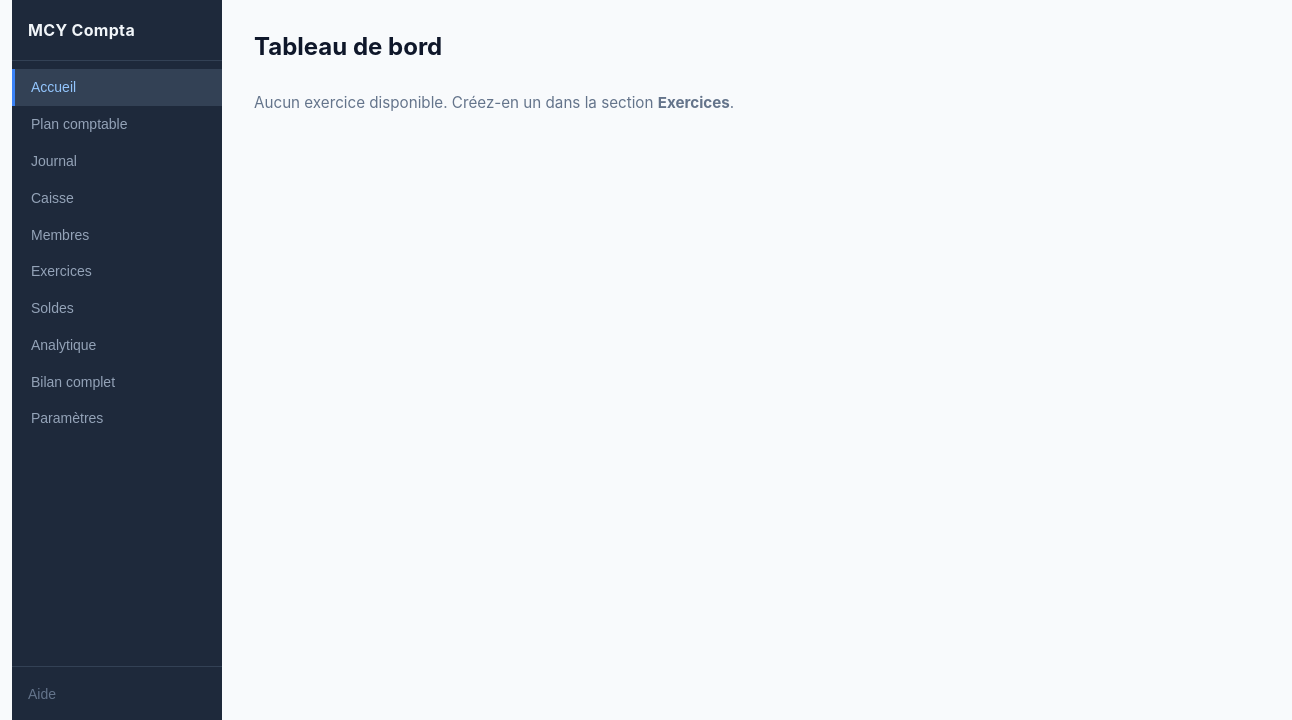
App — navigation › navigue vers Plan comptable au clic
The width and height of the screenshot is (1292, 720).
Click the button "Plan comptable" at (117, 124), box [12,106,222,143]
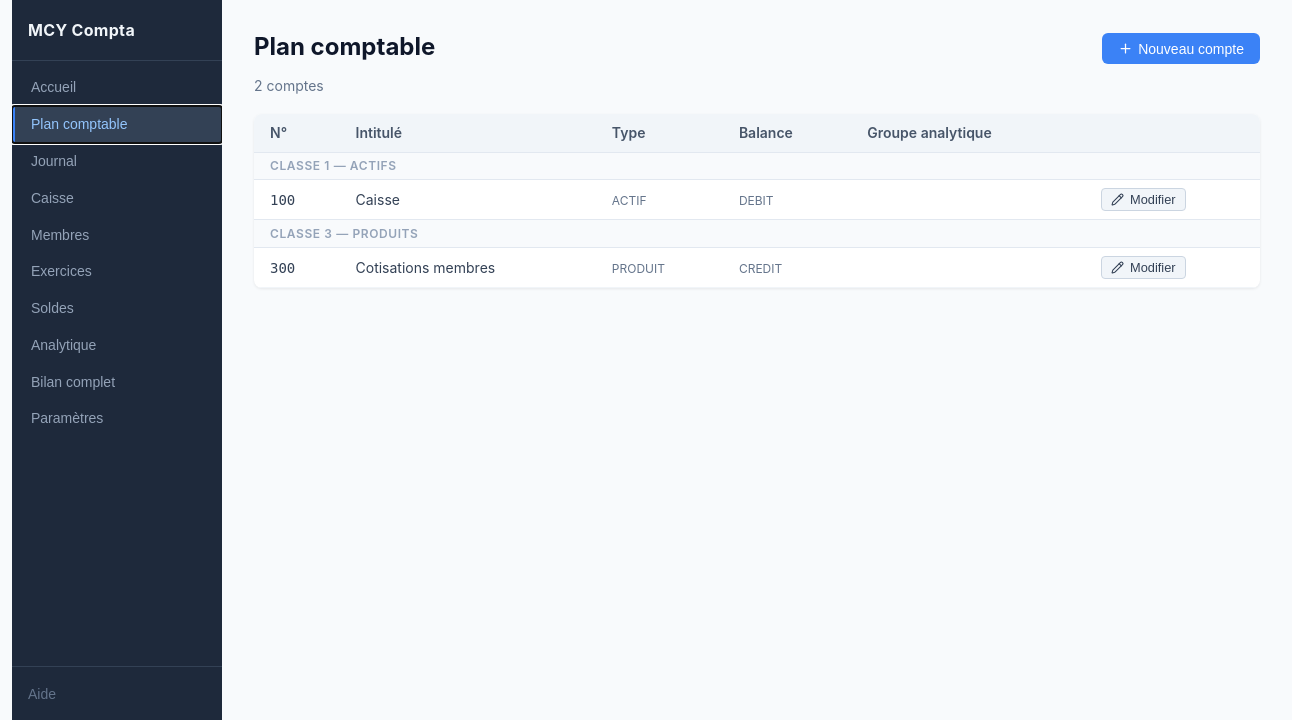
Check: the heading "Plan comptable" is shown, box [254,32,435,61]
